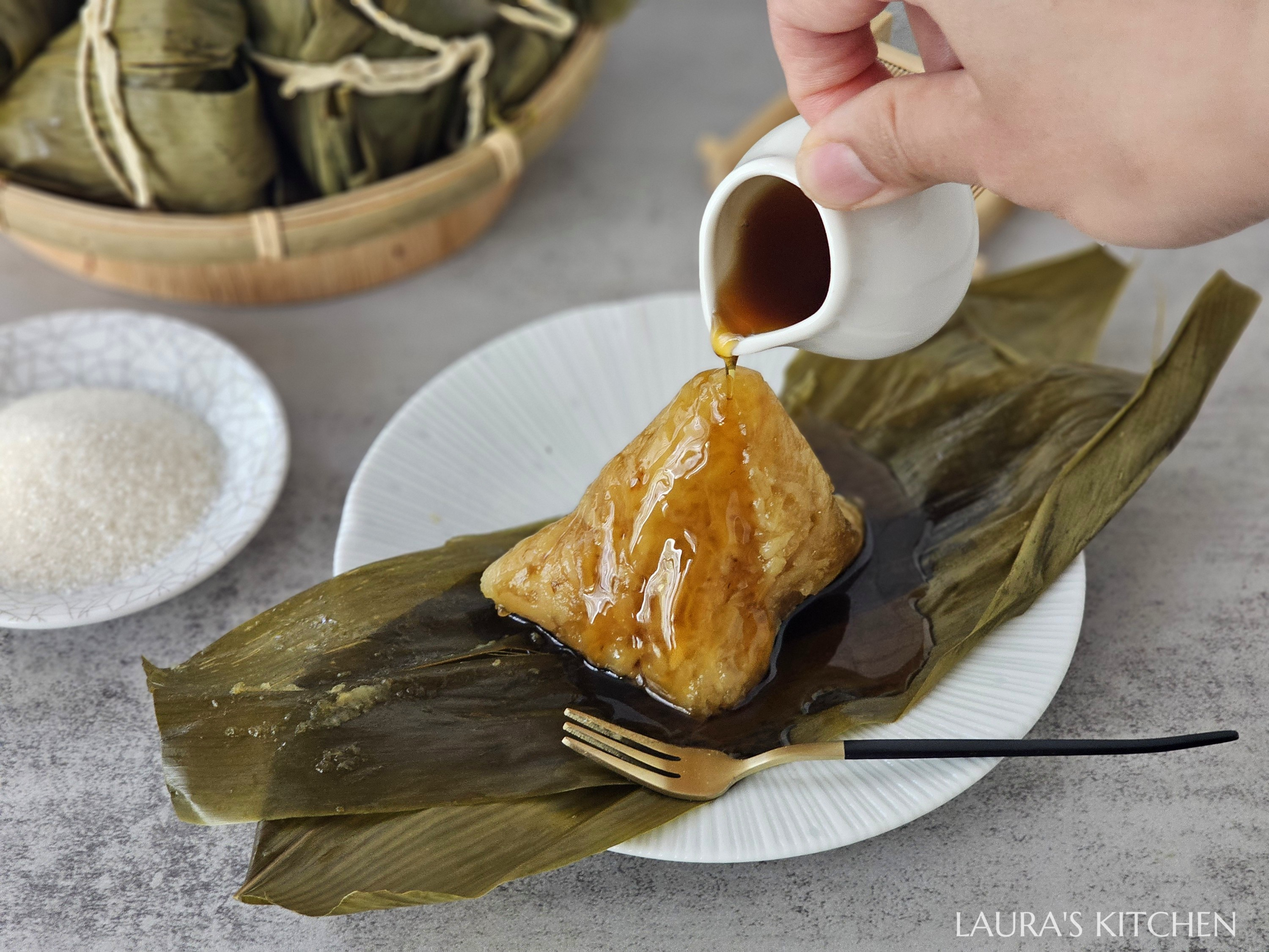zongzi: (482, 369, 861, 717), (247, 0, 579, 195), (0, 0, 277, 213)
